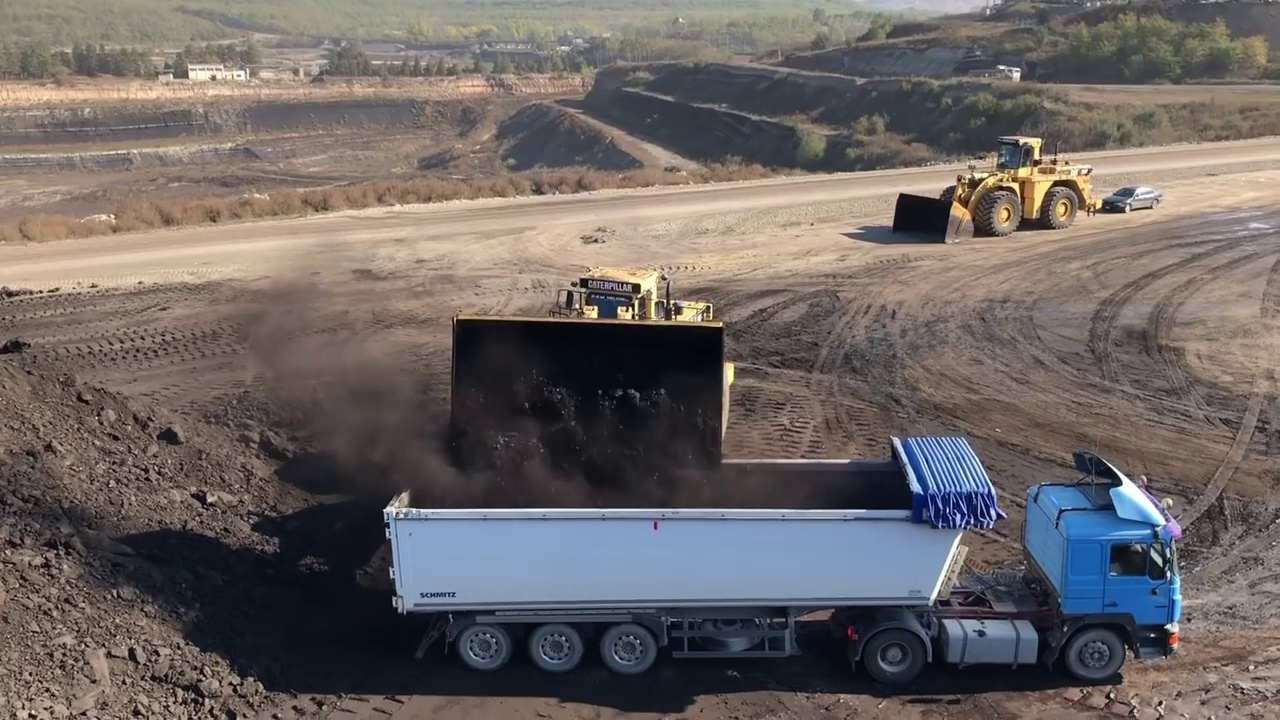car: (1107, 186, 1162, 213)
truck: (370, 436, 1185, 681)
wheel loader: (451, 266, 733, 478), (889, 136, 1102, 244)
